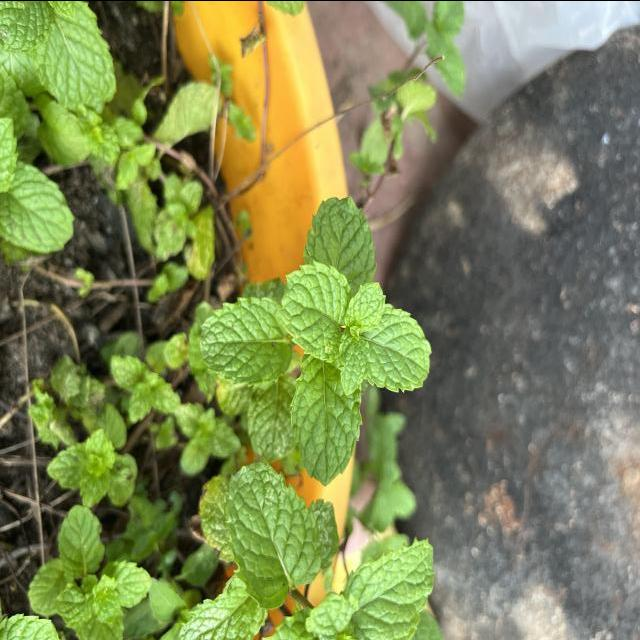Mentha spicata: (222, 459, 324, 611), (288, 354, 364, 486), (198, 292, 293, 388), (278, 258, 352, 362), (301, 194, 378, 286), (366, 303, 434, 395)
